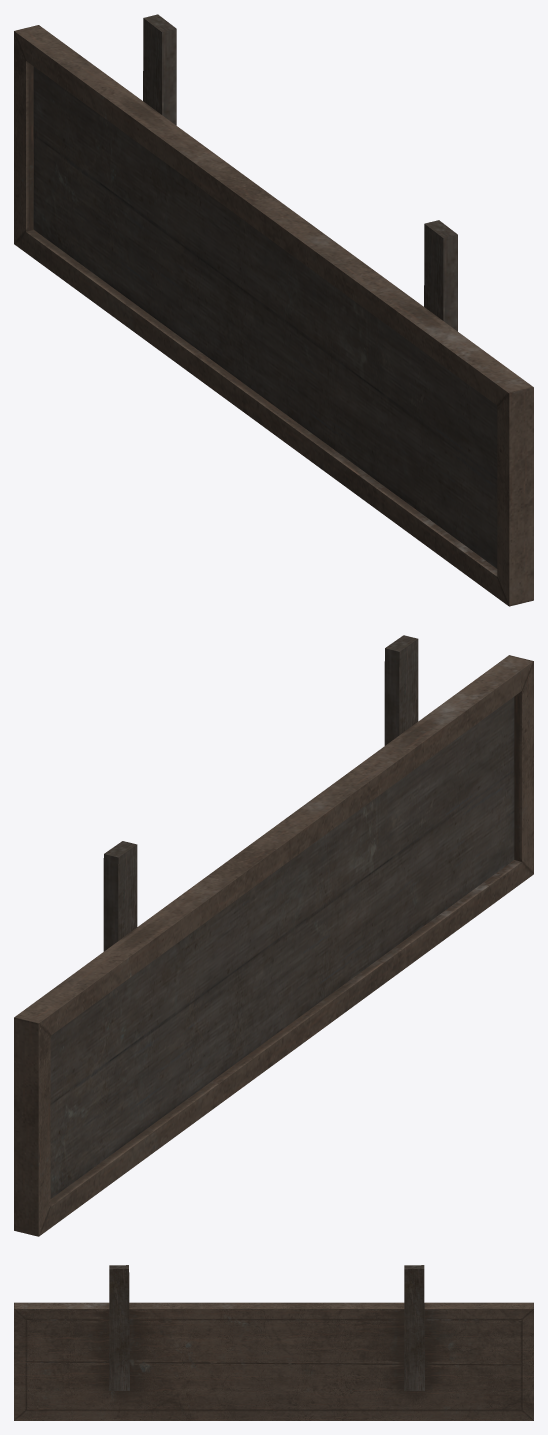
Rendered from SM_signboard_04.fbx.
The picture shows the model from 3 angles, top to bottom: view 1: azimuth 30°, elevation 25°; view 2: azimuth 150°, elevation 25°; view 3: azimuth 270°, elevation 25°; orthographic projection. The views are drawn at different scales.
Visible parts, largest first — view 1: SM_signboard_04_LOD0; view 2: SM_signboard_04_LOD0; view 3: SM_signboard_04_LOD0.
Part boxes in pixels (bbox=[...]): SM_signboard_04_LOD0: bbox=[14, 14, 533, 606]; SM_signboard_04_LOD0: bbox=[14, 635, 533, 1236]; SM_signboard_04_LOD0: bbox=[14, 1265, 533, 1420].
Size of the model in its own units: 8.8 by 191 by 63.12.
Materials: 1 (1 with a texture image).
